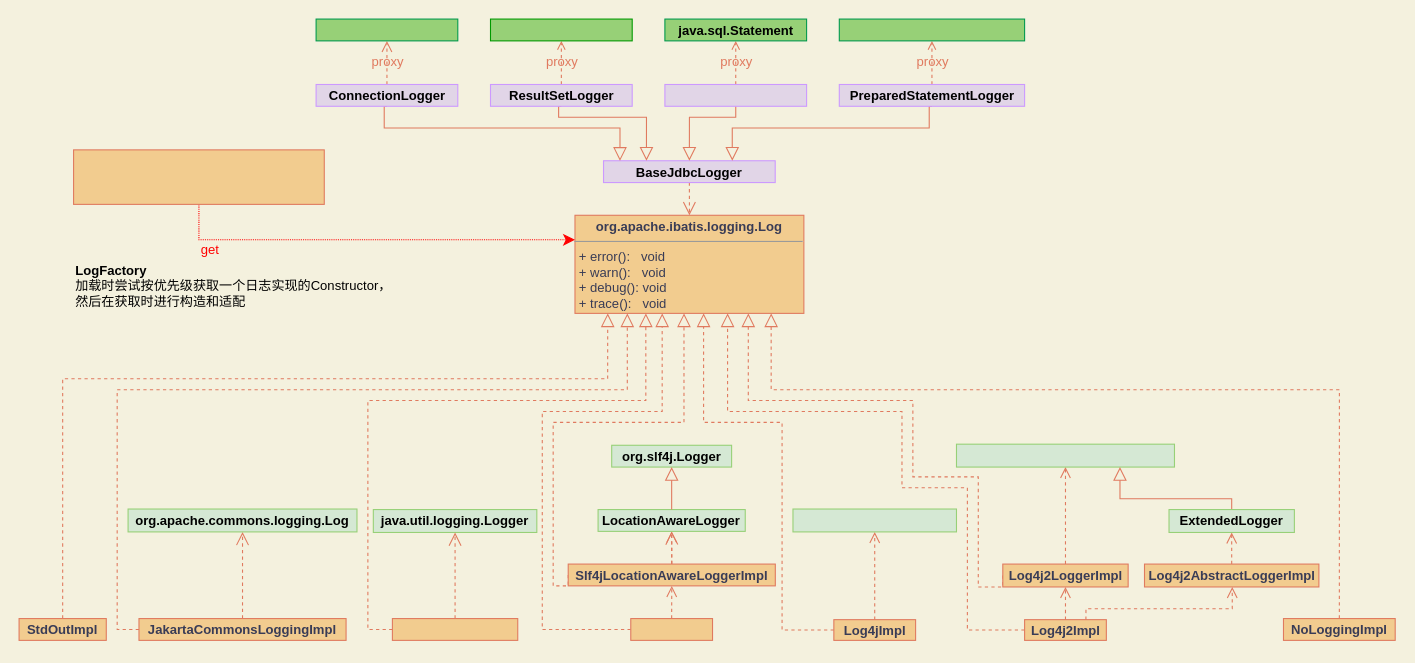
Some shapes in this 1415 by 663 pixel diagram are drawn without their labels. The centre of each missing label's shape, as x and y in pixels:
java.sql.Connection: the point at 386,29
java.sql.PreparedStatement: the point at 931,29
java.sql.ResultSet: the point at 560,29
Jdk14LoggingImpl: the point at 454,628
org.apache.ibatis.logging.LogFactory + getLog(String) : Log: the point at 198,176
org.apache.log4j.Logger: the point at 874,520
org.apache.logging.log4j.Logger: the point at 1064,455
Slf4jImpl: the point at 671,628
StatementLogger: the point at 735,94
